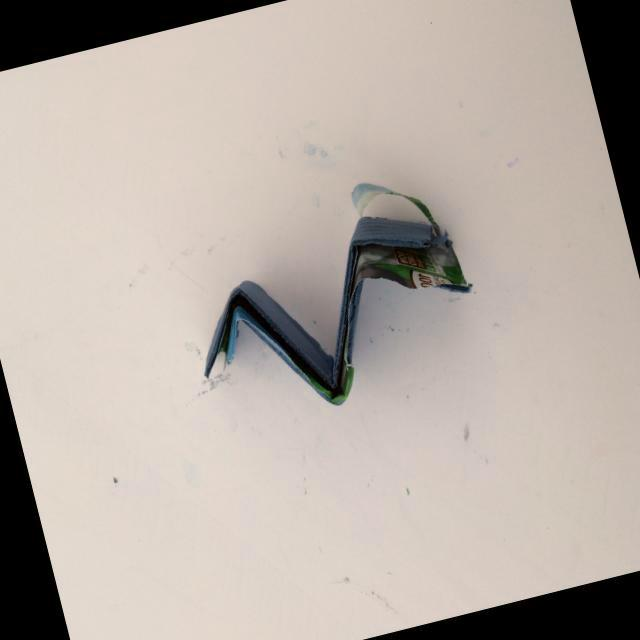cardboard: (156, 126, 510, 466)
